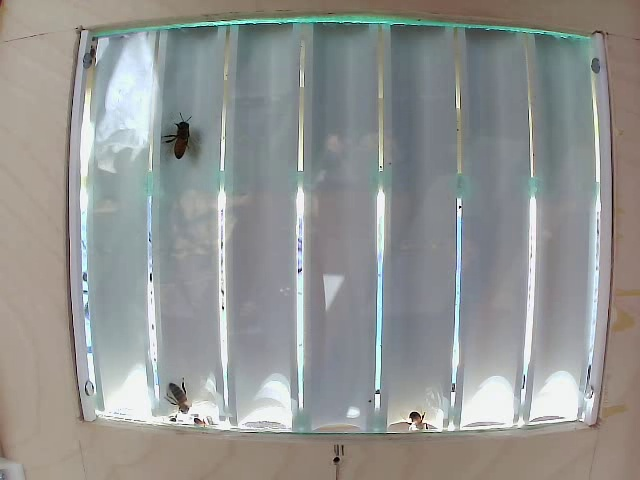bee: (166, 111, 208, 175)
